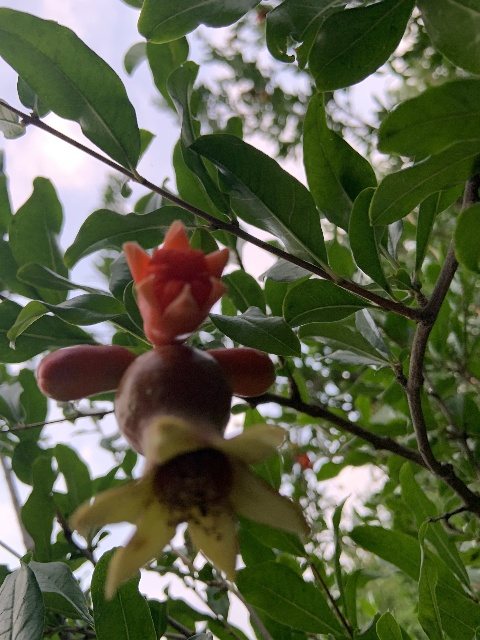bud: (35, 343, 136, 403), (206, 346, 274, 397)
early-fruit: (69, 344, 310, 602)
flower: (123, 219, 230, 346)
